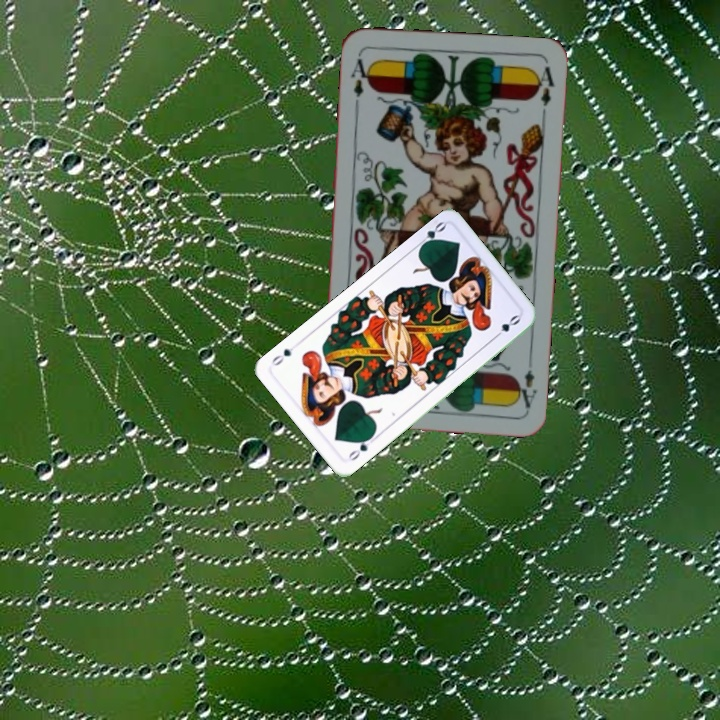EA: (512, 352, 540, 410), (347, 55, 374, 110)
GO: (413, 217, 449, 252), (343, 432, 376, 464)
